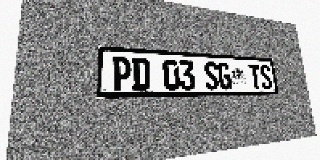0: (163, 59, 180, 90)
3: (179, 60, 196, 90)
D: (132, 57, 150, 91)
G: (217, 62, 232, 90)
P: (112, 56, 131, 91)
S: (203, 61, 219, 90), (259, 64, 273, 89)
T: (248, 64, 262, 89)
